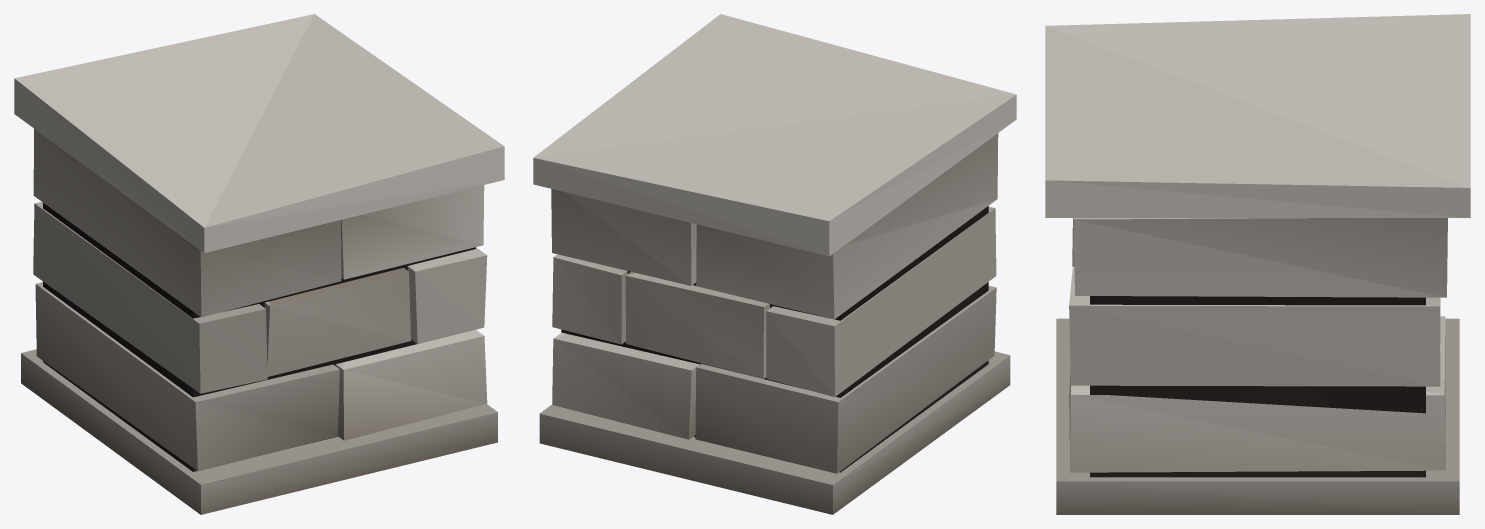
The model's file is storm_wall.glb.
3 renders of one model, left to right at view 1: azimuth 30°, elevation 25°; view 2: azimuth 150°, elevation 25°; view 3: azimuth 270°, elevation 25°, orthographic. The views are drawn at different scales.
Visible parts, largest first — view 1: ca_storm_wall; view 2: ca_storm_wall; view 3: ca_storm_wall.
Part boxes in pixels (left/top/right/bottom): ca_storm_wall: left=14, top=14, right=504, bottom=514; ca_storm_wall: left=533, top=14, right=1016, bottom=514; ca_storm_wall: left=1045, top=14, right=1470, bottom=514.
Bounding box in the file's own units: 1.04 × 0.9987 × 1.14.
1 material, 1 textured.
